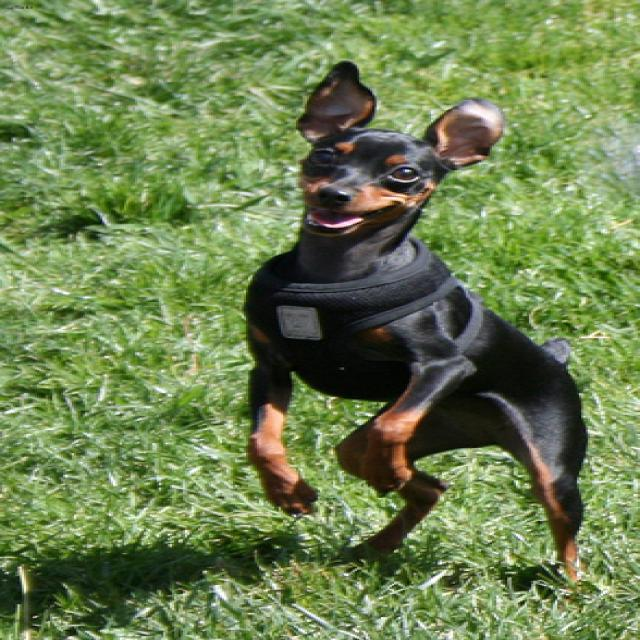dog-miniature_pinscher: (229, 55, 599, 590)
